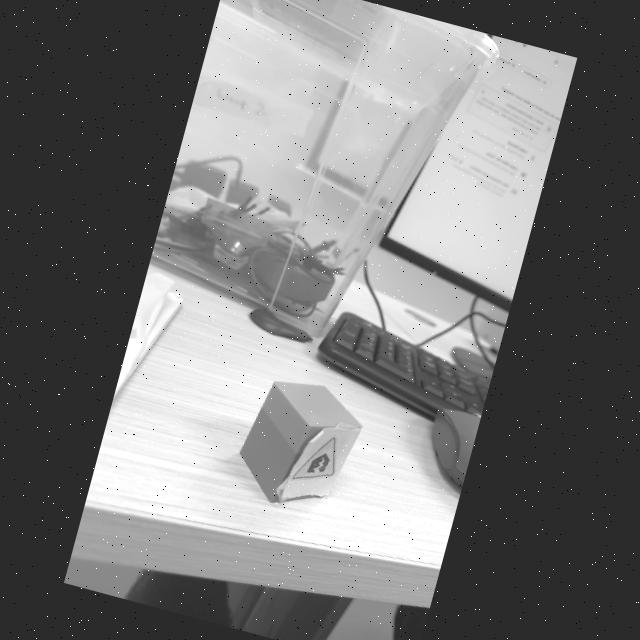Earthquake: (291, 436, 335, 479)
